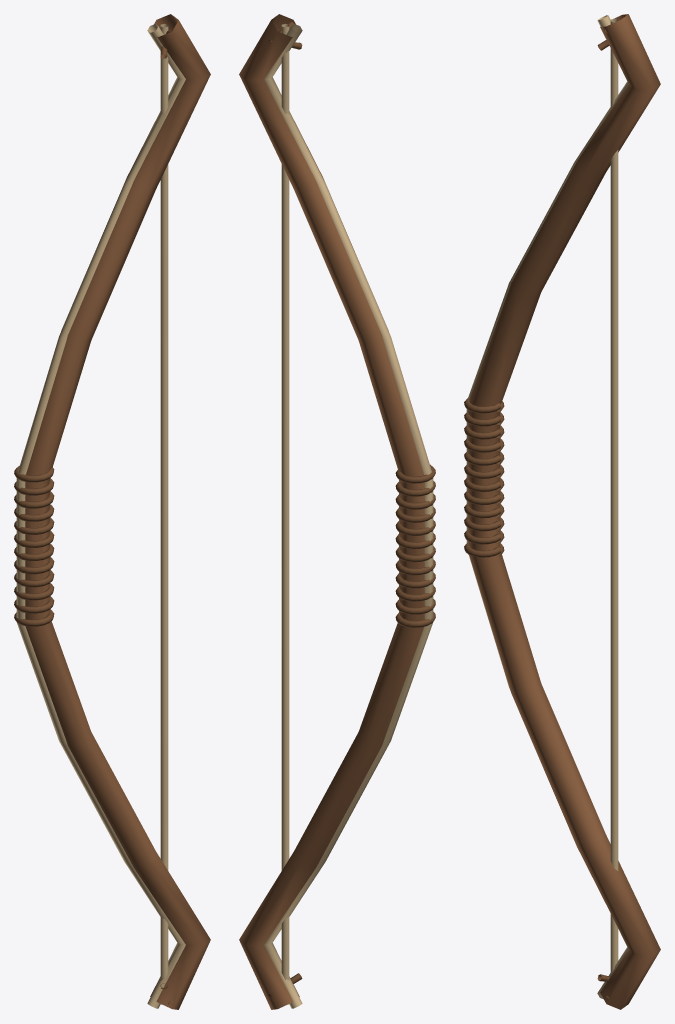
Rendered from HanBow.fbx.
3 views of the same model, side by side, from view 1: azimuth 30°, elevation 25°; view 2: azimuth 150°, elevation 25°; view 3: azimuth 330°, elevation 25° (orthographic).
Visible parts, largest first — view 1: HanBow; view 2: HanBow; view 3: HanBow.
Boxes of the visible parts, box(x1,y1,x2,y2) form: HanBow: box(14, 14, 210, 1009); HanBow: box(239, 14, 435, 1009); HanBow: box(464, 14, 660, 1009).
Bounding box in the file's own units: 24.86 × 124 × 4.59.
